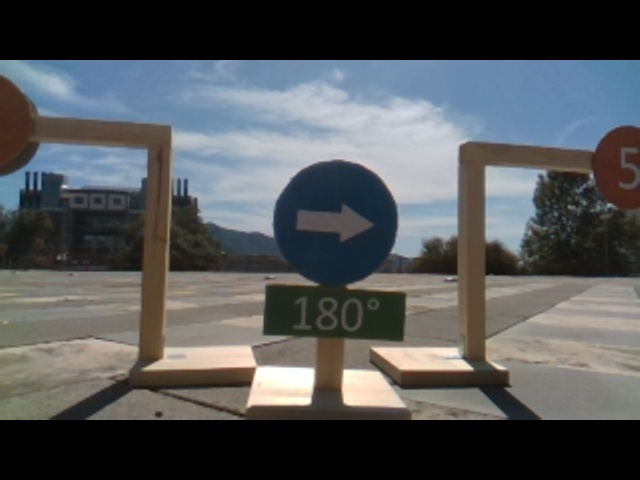180_degree: (264, 286, 409, 339)
arrow_right: (267, 156, 399, 284)
checkpoint_foot: (369, 340, 512, 384), (132, 336, 259, 383)
checkpoint_side: (453, 133, 495, 364), (138, 116, 175, 361)
checkpoint_signal: (456, 135, 640, 178)
five: (589, 121, 640, 208)
